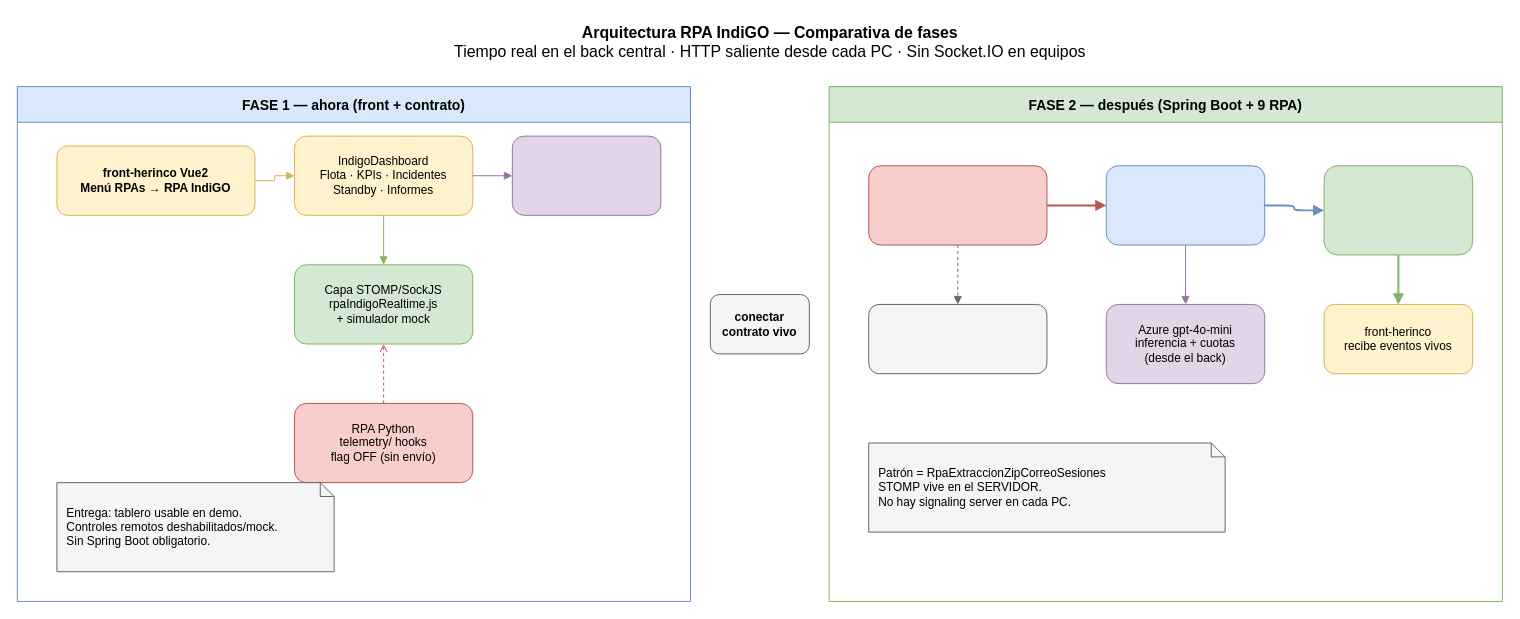
This 1520x619 diagram has some shape labels left out. The centre of each missing label's shape, as x and y in pixels:
"9 RPA IndiGO HTTPS saliente start → notify → end" belongs at (957,205).
"Broker STOMP/SockJS /topic/rpa-indigo/{empresa} tiempo real CENTRAL" belongs at (1398,210).
"Consumo IA estilo Sabelotodo gpt-4o-mini (mock)" belongs at (586,175).
"PDFs en carpetas locales por E.S.E. · sin BD de archivos" belongs at (957,338).
"Spring Boot MSA POST ingest + REST lectura" belongs at (1185,205).
